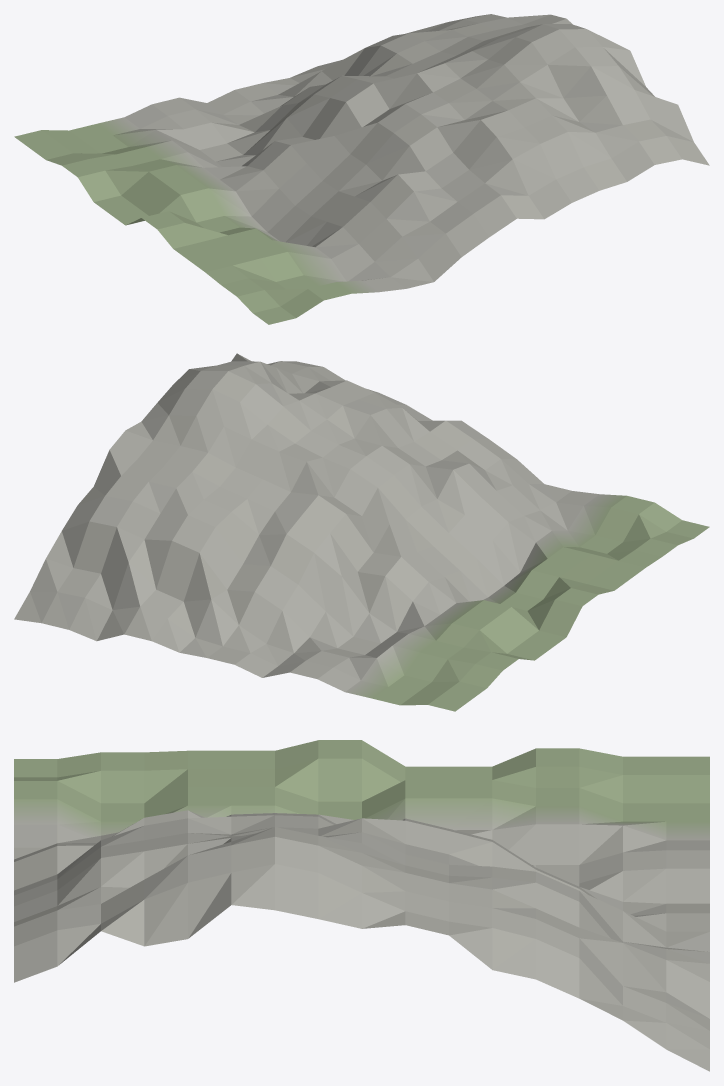
3 views of the same model, one above another, from view 1: azimuth 30°, elevation 25°; view 2: azimuth 150°, elevation 25°; view 3: azimuth 270°, elevation 25° (orthographic). The views are drawn at different scales.
Size of the model in its own units: 32 by 10.21 by 32.
